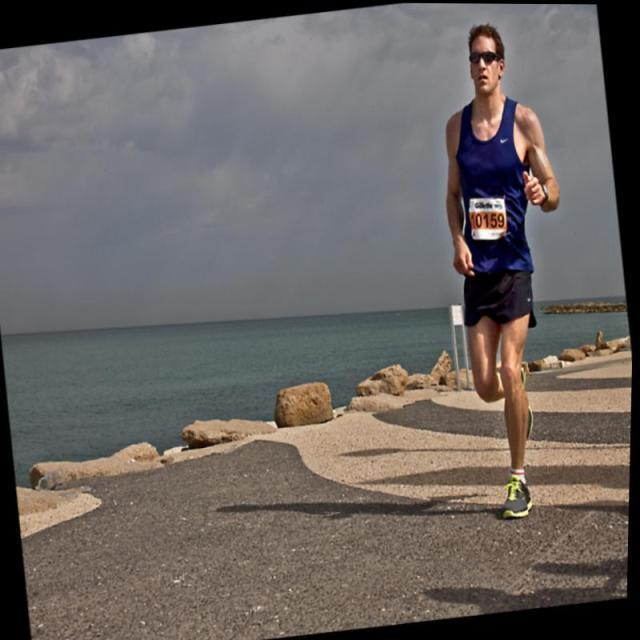dorsal: (462, 187, 512, 248)
